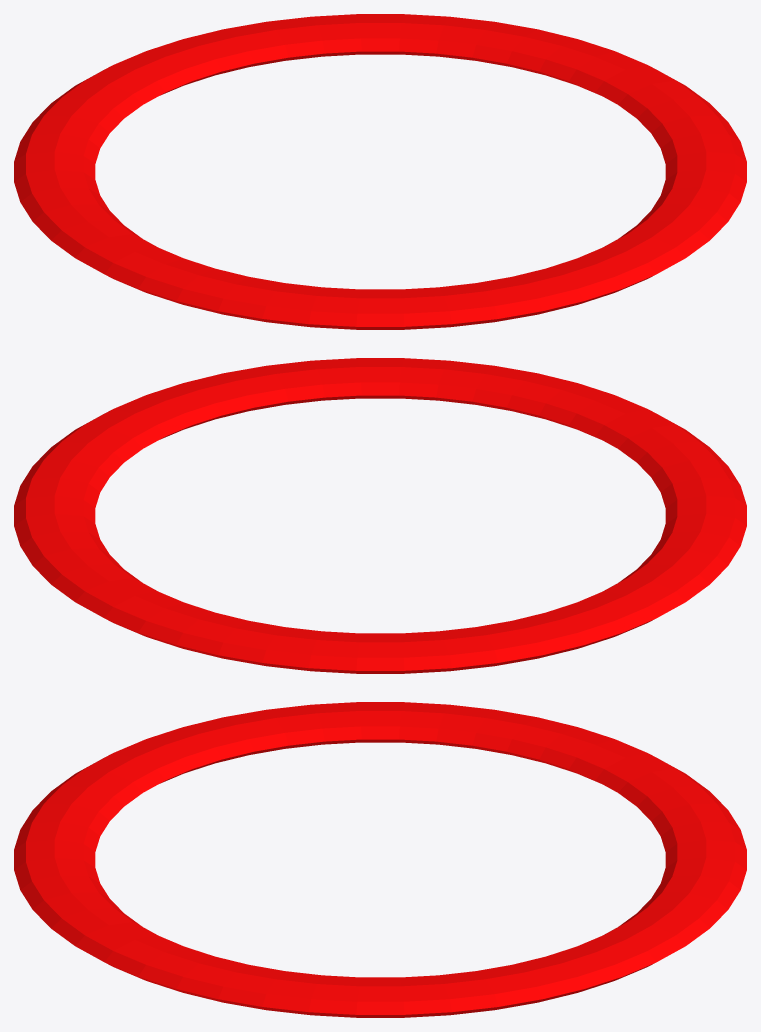
The model's file is attack.glb.
The picture shows the model from 3 angles, top to bottom: view 1: azimuth 30°, elevation 25°; view 2: azimuth 150°, elevation 25°; view 3: azimuth 270°, elevation 25°; orthographic projection.
Parts seen in each view (by area): view 1: torus; view 2: torus; view 3: torus.
Part boxes in pixels (x1=…): torus: x1=14, y1=14, x2=746, y2=329; torus: x1=14, y1=358, x2=746, y2=673; torus: x1=14, y1=702, x2=746, y2=1017.
Bounding box in the file's own units: 0.4131 × 0.0141 × 0.4131.
1 material, 1 textured.
